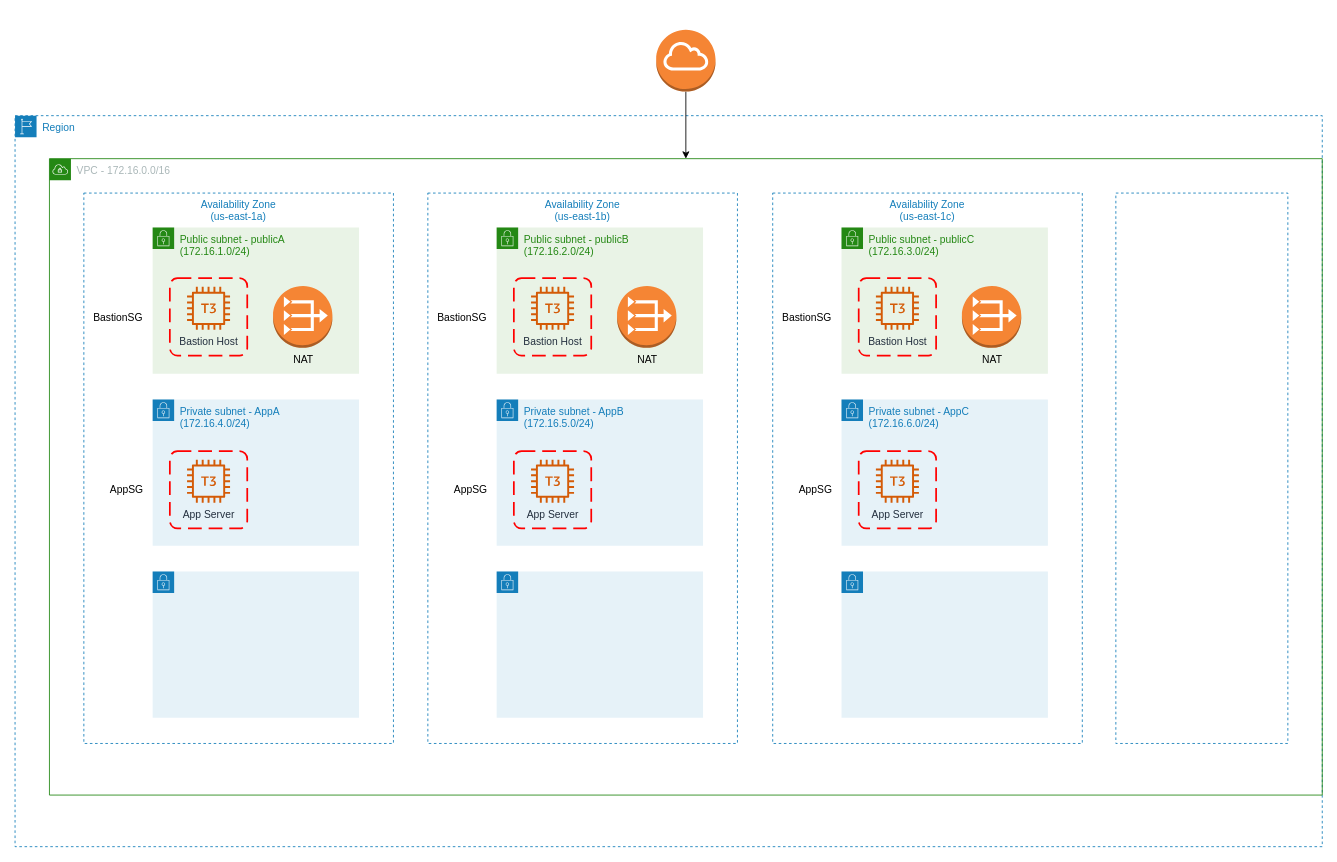
The diagram is 1337 pixels wide and 862 high, and some of its shapes have lost their labels. The shapes that lost their labels are listed below. From the top down, each one's centre as x and y in pixels, then its label:
(x=685, y=60): MyIGW
(x=1201, y=467): Availability Zone (Reserved for Future Use)
(x=255, y=644): Private subnet - DbA (172.16.8.0/24)
(x=599, y=644): Private subnet - DbB (172.16.9.0/24)
(x=944, y=644): Private subnet - DbC (172.16.10.0/24)
